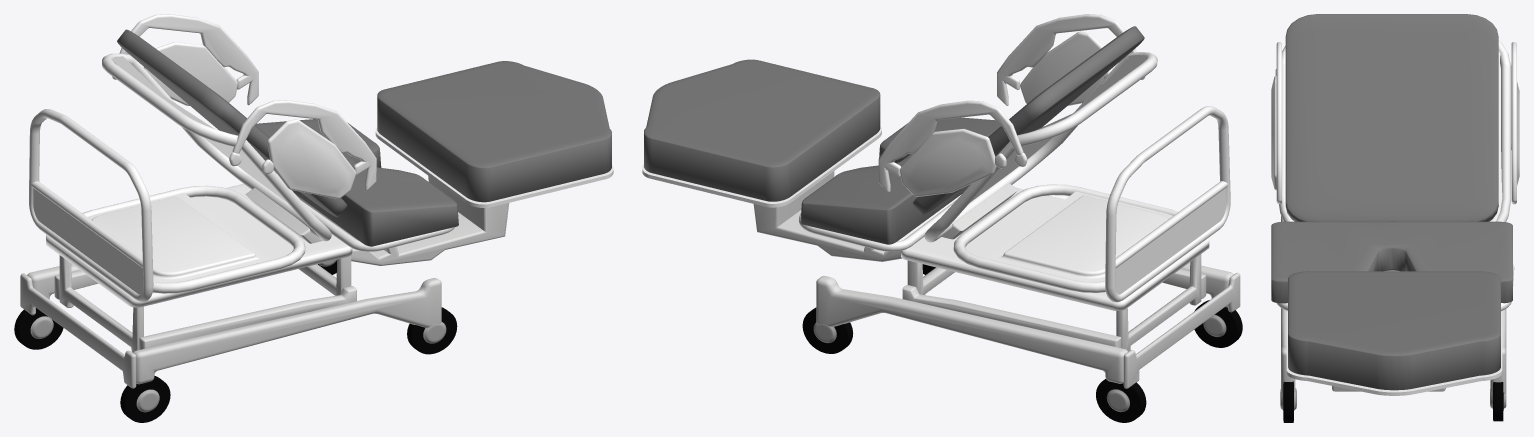
Rendered from cama_medica.glb.
3 renders of one model, left to right at view 1: azimuth 30°, elevation 25°; view 2: azimuth 150°, elevation 25°; view 3: azimuth 270°, elevation 25°, orthographic.
Parts seen in each view (by area): view 1: Object_4, Object_64, Object_8, Object_53, Object_52; view 2: Object_4, Object_64, Object_8, Object_53, Object_52; view 3: Object_64, Object_4, Object_8, Object_53.
Part boxes in pixels (box(x1,y1,x2,y2)): Object_4: box(29, 14, 613, 307); Object_64: box(117, 29, 611, 246); Object_8: box(20, 176, 509, 388); Object_53: box(14, 260, 457, 422); Object_52: box(30, 259, 446, 412); Object_4: box(642, 14, 1230, 310); Object_64: box(644, 26, 1144, 244); Object_8: box(753, 171, 1240, 388); Object_53: box(802, 264, 1242, 422); Object_52: box(813, 265, 1226, 412); Object_64: box(1271, 14, 1512, 390); Object_4: box(1271, 40, 1519, 395); Object_8: box(1281, 216, 1506, 394); Object_53: box(1283, 381, 1503, 422).
Bounding box in the file's own units: 2.26 × 1.23 × 0.914.
Materials: 5 (1 with a texture image).
